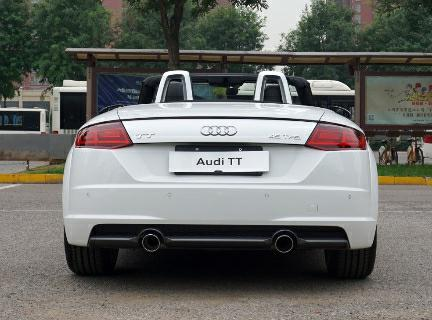奥迪-TT: (58, 63, 391, 291)
